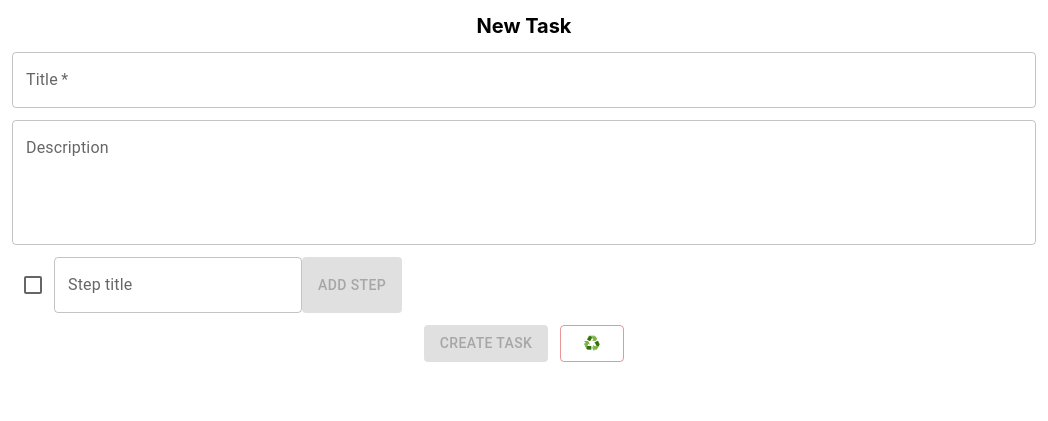
Test: NewTaskForm › should enable create button when title and a step are provided
Type "Test Task" into the field labelled "Title *" at point(524, 80), box [12,52,1036,108]
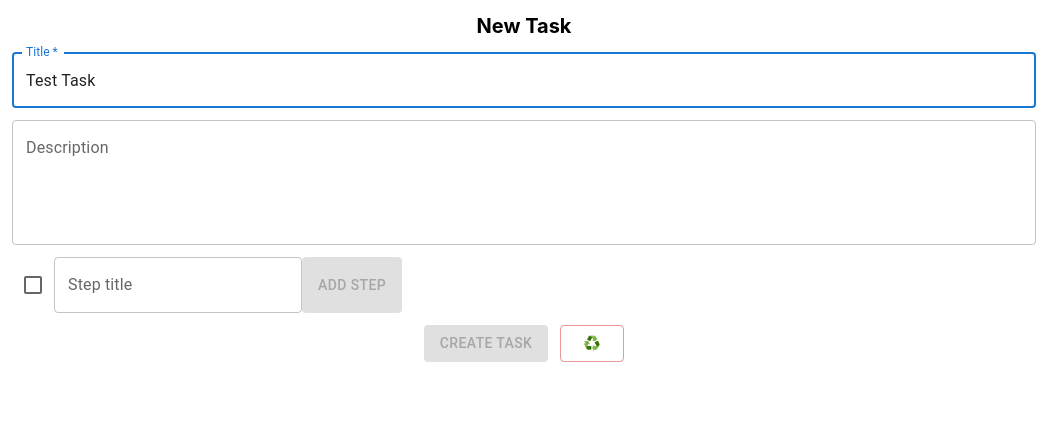
Type "Step 1" into the field labelled "Step title" at point(178, 285), box [54,257,302,313]
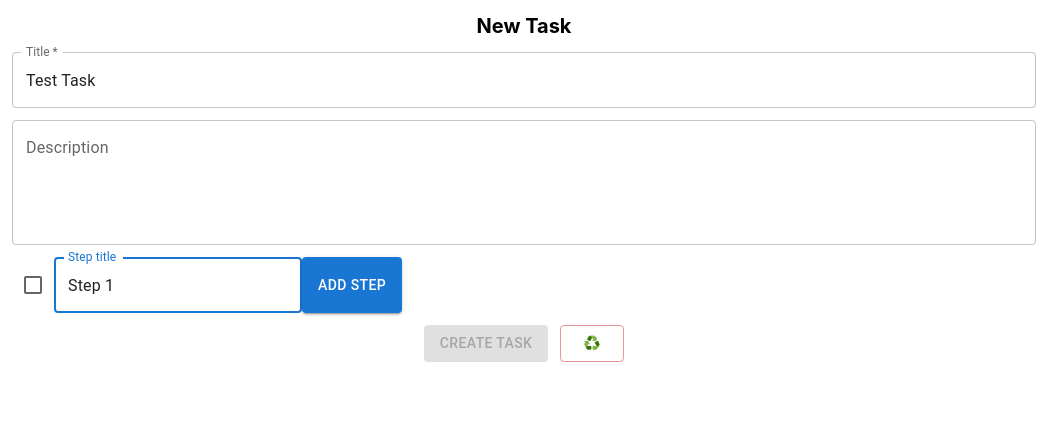
Click the button "Add Step" at point(352, 285), box [302,257,402,313]
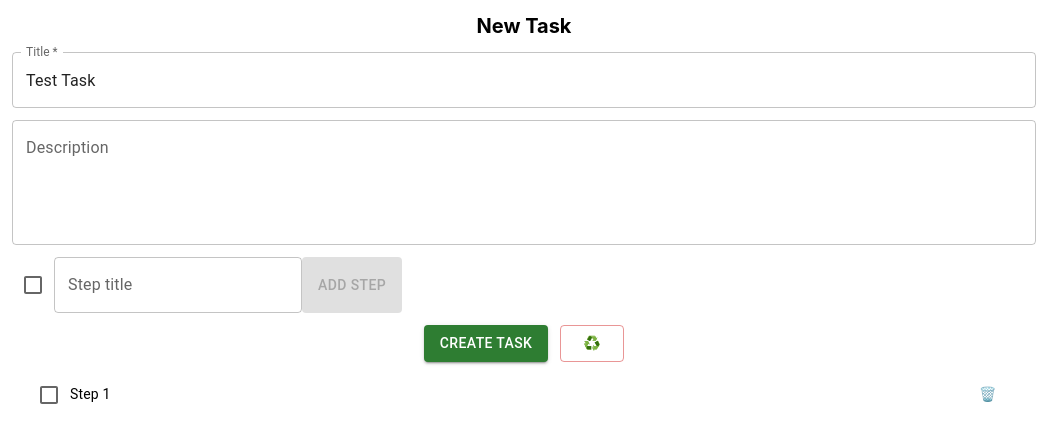
Expected: the button "Create Task" is enabled, [424,325,548,362]
